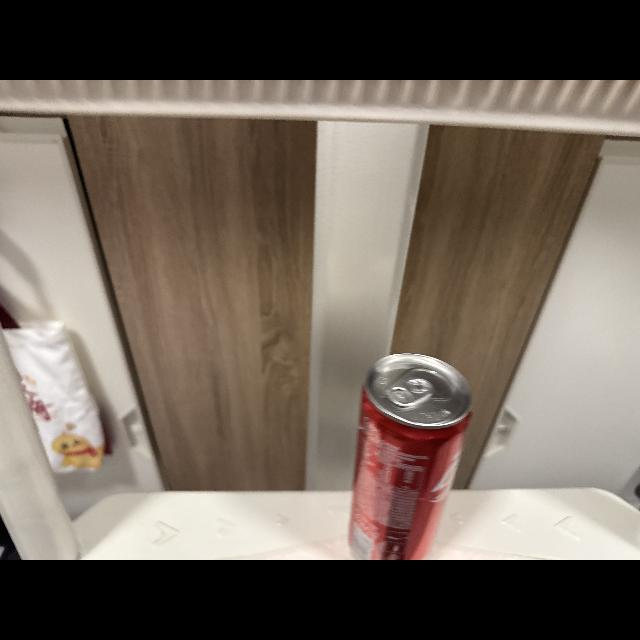Cola: (338, 346, 486, 560)
